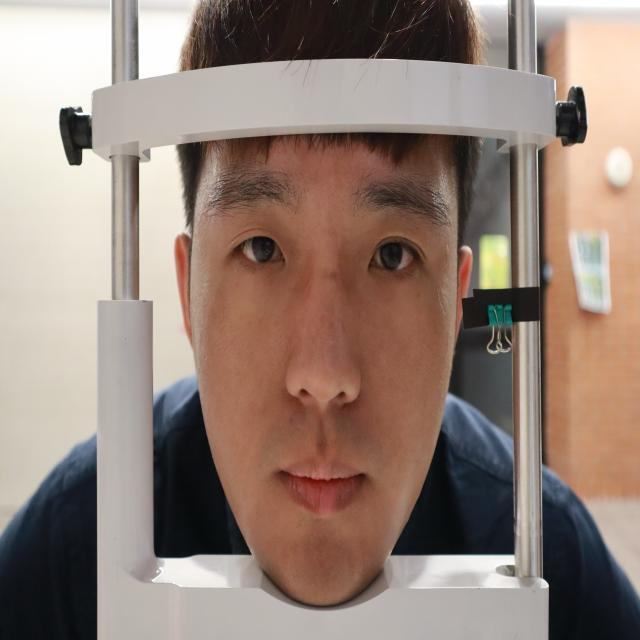eye: (224, 218, 298, 283), (362, 226, 435, 286)
gaze: (379, 237, 404, 271), (250, 232, 276, 264)
